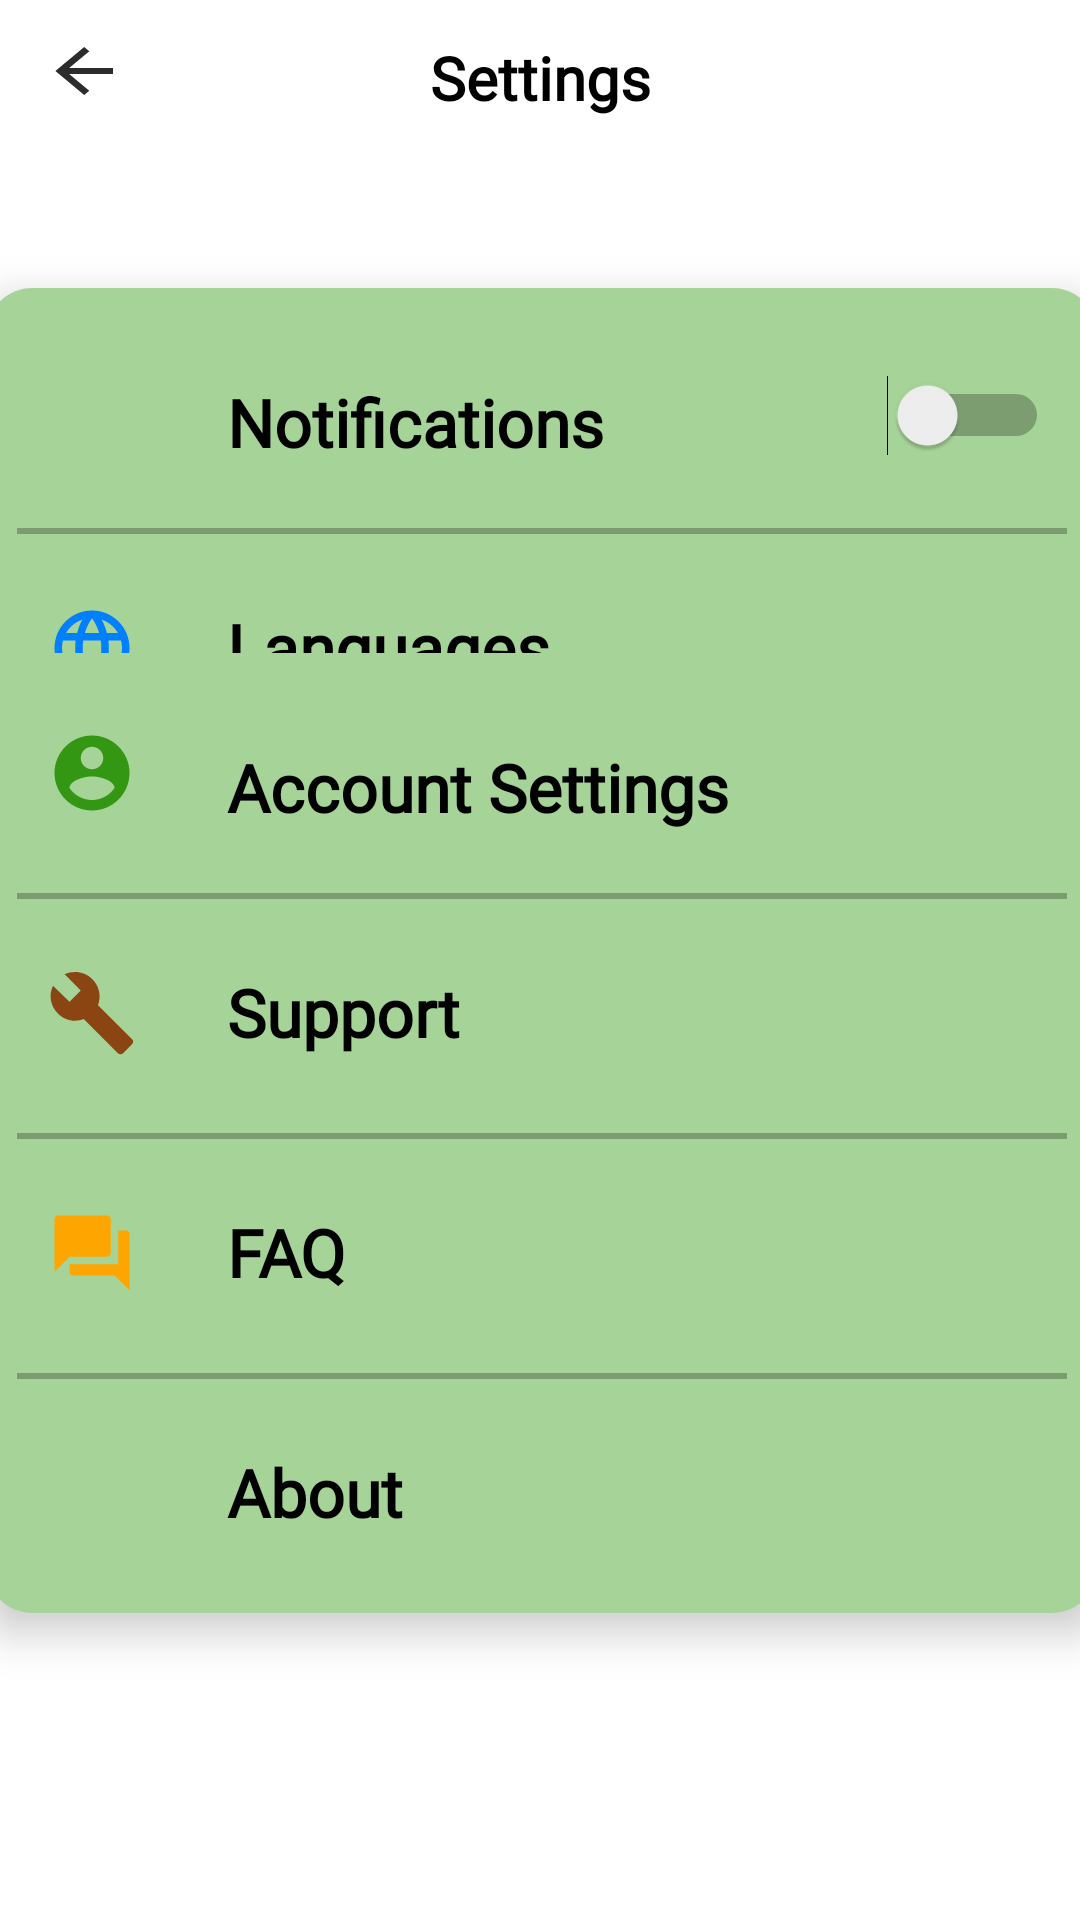

Point at icon controls on the screen. Image size 1080x1920, points as (x,y).
arrow back: (84,71)
build: (91,1013)
question answer: (92,1252)
